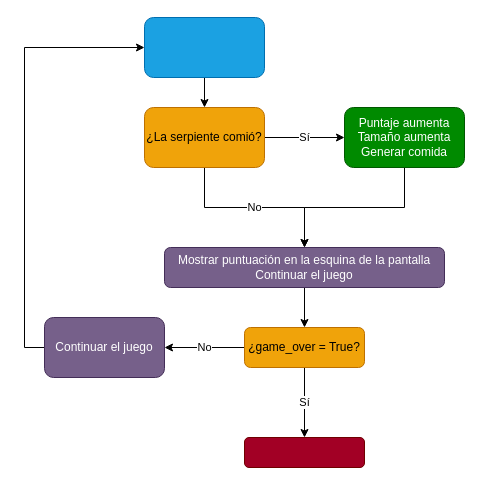
Some shapes in this 482 by 485 pixel diagram are drawn without their labels. Each missing label, with the box of its shape:
Fin del juego: (244, 436, 364, 468)
Inicio de actualización de la puntuación: (144, 16, 264, 78)
